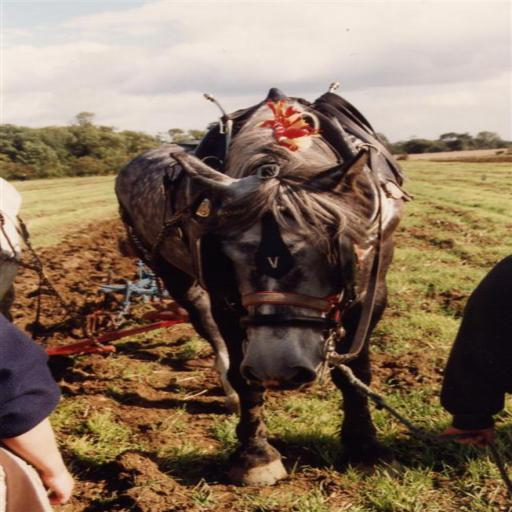horse: (108, 86, 408, 486)
